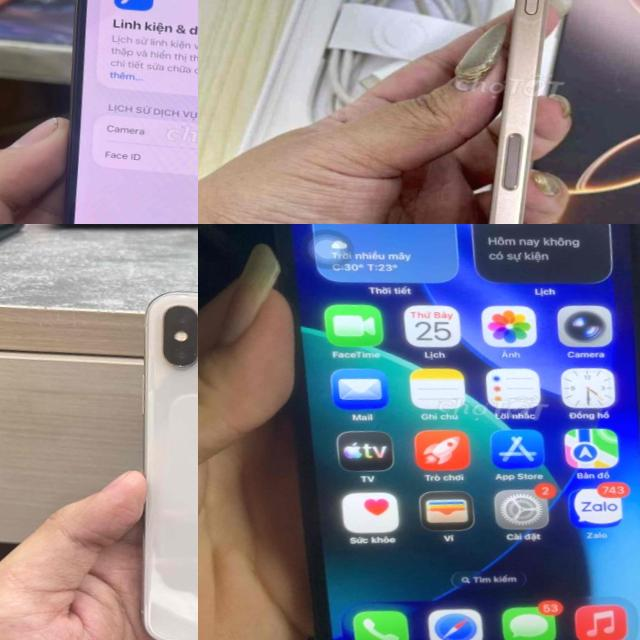gen_12_13: (204, 224, 640, 640)
gen_16: (429, 0, 596, 224), (63, 0, 198, 224)
gen_x_xs: (137, 292, 198, 640)
